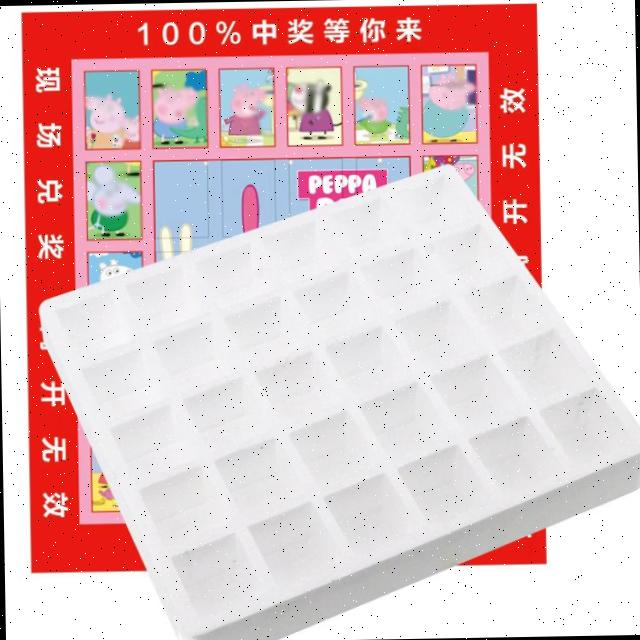styrofoam: (34, 158, 640, 640)
